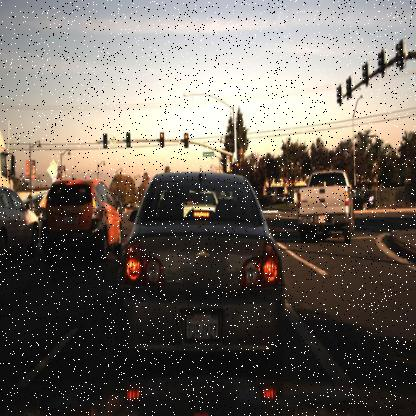car: (119, 173, 282, 371), (40, 175, 122, 265), (295, 169, 354, 246), (0, 184, 40, 264)
trafficLight-GreenLeft: (102, 129, 110, 150), (124, 130, 132, 151)
trafficLight-Red: (159, 129, 167, 148), (182, 132, 190, 151), (233, 160, 241, 178)
truck: (0, 118, 19, 196)
